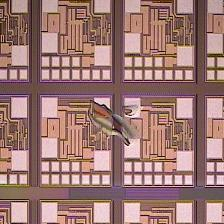PARTICLE: (87, 98, 145, 147)
